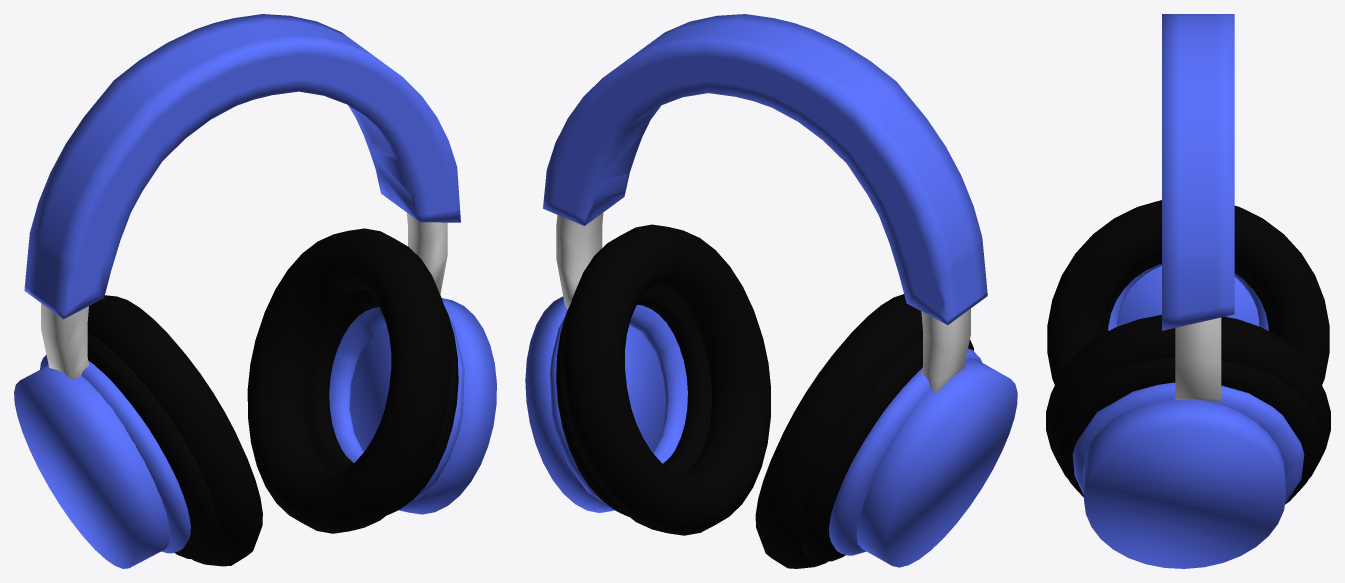
The model's file is Headset.fbx.
The picture shows the model from 3 angles, left to right: view 1: azimuth 30°, elevation 25°; view 2: azimuth 150°, elevation 25°; view 3: azimuth 270°, elevation 25°; orthographic projection. The views are drawn at different scales.
Visible parts, largest first — view 1: Text.001; view 2: Text.001; view 3: Text.001.
Boxes of the visible parts, box(x1,y1,x2,y2) form: Text.001: box(14, 14, 496, 568); Text.001: box(525, 14, 1017, 568); Text.001: box(1046, 14, 1330, 568).
Bounding box in the file's own units: 268 × 306 × 169.
